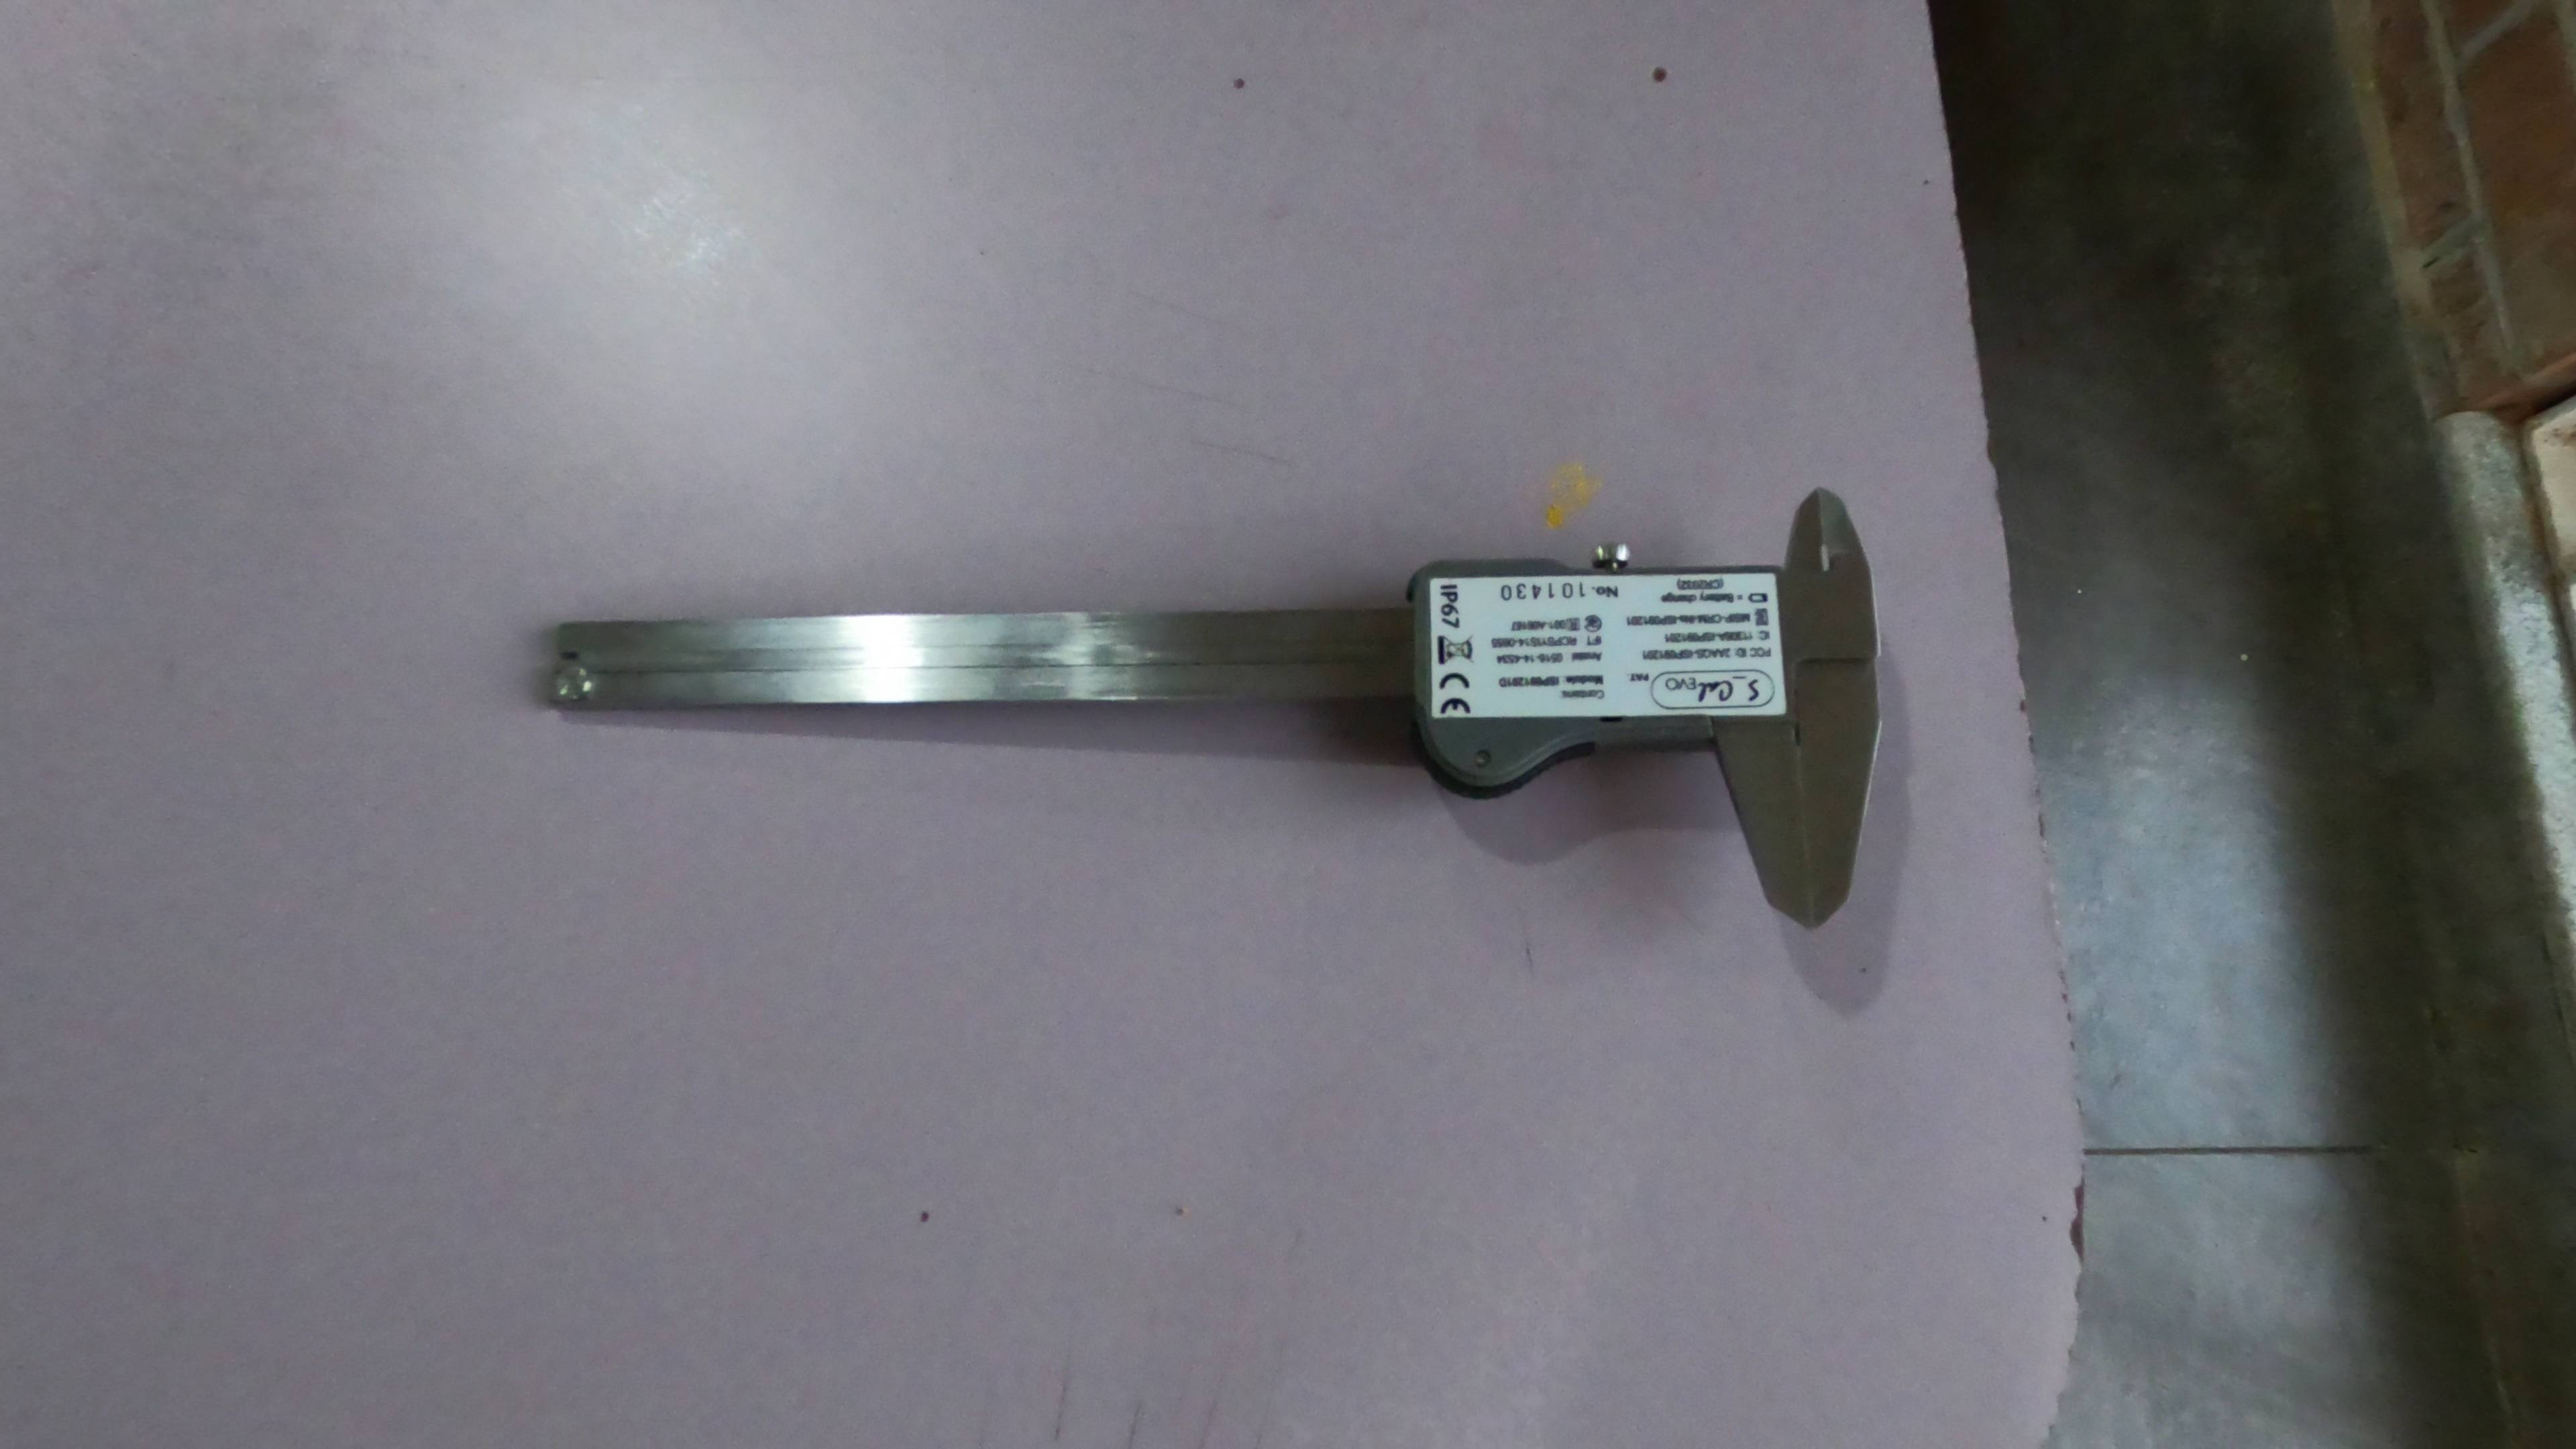vernier_caliper: (536, 478, 1875, 943)
